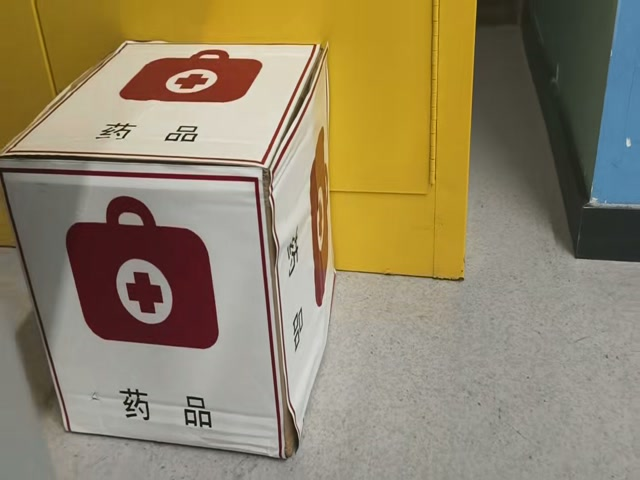Cube_medicine: (0, 42, 326, 176)
